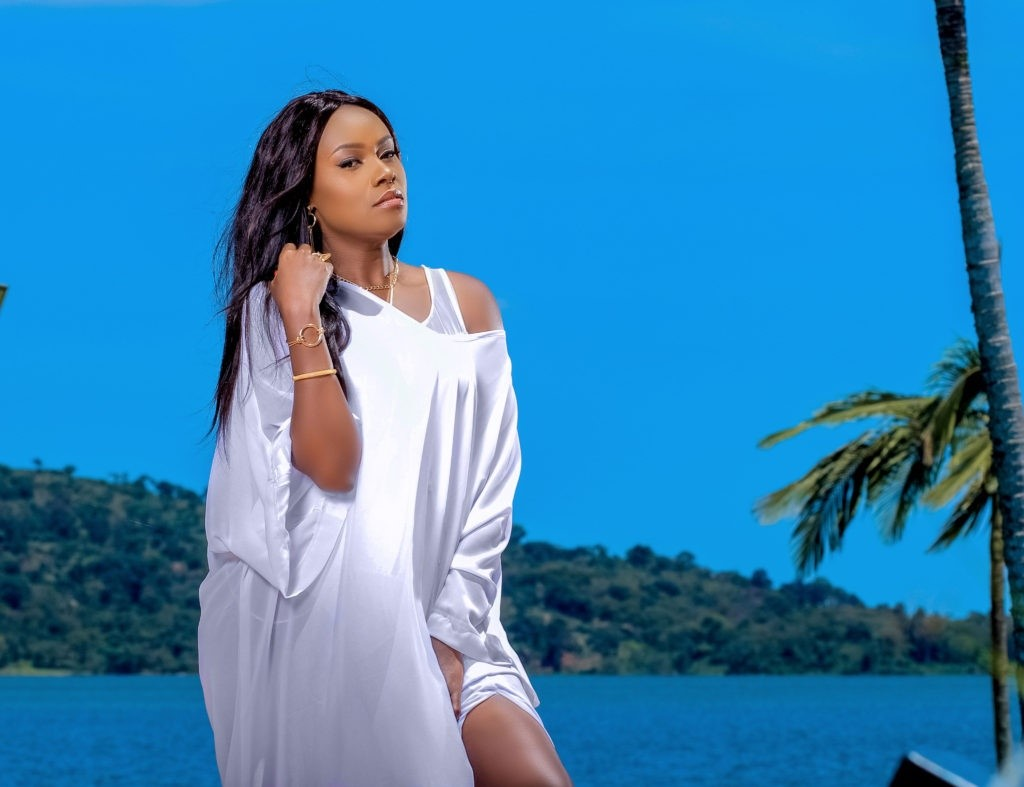face_no_mask: (259, 88, 407, 242)
